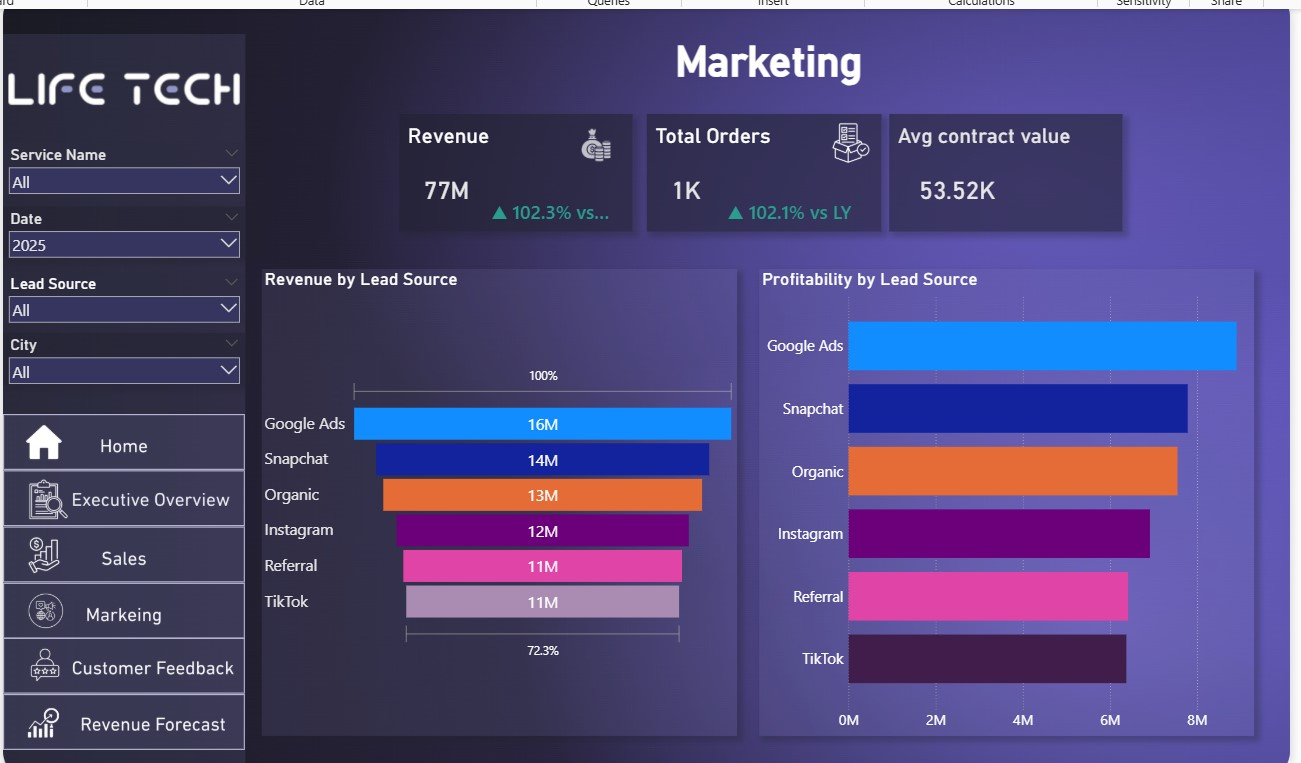

The dashboard page shown, as its layout file describes it:
{"tool":"powerbi","page":{"name":"Marketing","canvas":[2200,1250],"ordinal":4},"visuals":[{"type":"textbox","box":[982.8,0,652.8,95.7],"z":0},{"type":"barChart","title":"Profitability by Lead Source","fields":{"Category":["DimLeadSource.LeadSource"],"Y":["DAX-Measures.Net-Operating-Profit"],"Series":["DimLeadSource.LeadSource"]},"box":[1293.7,401.7,846.5,798.7],"z":1000},{"type":"funnel","title":"Revenue by Lead Source","fields":{"Y":["DAX-Measures.Total-Revenue"],"Category":["DimLeadSource.LeadSource"]},"box":[442.4,401.7,813,798.7],"z":2000},{"type":"cardVisual","title":"Revenue","fields":{"Data":["DAX-Measures.Total-Revenue"]},"box":[676.7,136.3,399.3,200.9],"z":3000},{"type":"image","box":[954.1,136.3,122,110],"z":4000},{"type":"cardVisual","fields":{"Data":["DAX-Measures.YoY KPI Text"]},"box":[805.9,267.8,270.2,69.3],"z":5000},{"type":"cardVisual","title":"Total Orders","fields":{"Data":["DAX-Measures.Total-Orders"]},"box":[1100,136.3,401.7,200.9],"z":6000},{"type":"image","box":[1377.4,119.6,138.7,141.1],"z":7000},{"type":"cardVisual","fields":{"Data":["DAX-Measures.Orders KPI Text"]},"box":[1210,270.2,291.7,67],"z":8000},{"type":"cardVisual","title":"Avg contract value","fields":{"Data":["Avg(Sales_details.ContractValue)"]},"box":[1516.1,136.3,399.3,200.9],"z":9000},{"type":"shape","box":[0,0,414.7,1248.3],"z":10000},{"type":"slicer","fields":{"Values":["DimCity.City"]},"box":[0,510.1,415,89.9],"z":11000},{"type":"slicer","fields":{"Values":["Calender.Year","Calender.Quarter","Calender.Month"]},"box":[0,294.4,415,89.9],"z":12000},{"type":"slicer","fields":{"Values":["DimServiceName.ServiceName"]},"box":[0,186.5,415,89.9],"z":13000},{"type":"slicer","fields":{"Values":["DimLeadSource.LeadSource"]},"box":[0,406.1,414.7,89.8],"z":14000},{"type":"image","box":[0,650.4,413.7,95.7],"z":15000},{"type":"image","box":[0,746.1,413.7,95.7],"z":16000},{"type":"image","box":[0,841.7,413.7,95.7],"z":17000},{"type":"image","box":[0,937.4,413.7,95.7],"z":18000},{"type":"image","box":[0,1033,413.7,95.7],"z":19000},{"type":"image","box":[0,1128.7,413.7,95.7],"z":20000},{"type":"image","box":[9.6,0,397,186.5],"z":21000},{"type":"actionButton","box":[0,650.4,413.7,95.7],"z":22000},{"type":"actionButton","box":[0,746.1,413.7,95.7],"z":23000},{"type":"actionButton","box":[0,841.7,413.7,95.7],"z":24000},{"type":"actionButton","box":[0,937.4,413.7,95.7],"z":25000},{"type":"actionButton","box":[0,1033,413.7,95.7],"z":26000},{"type":"actionButton","box":[0,1128.7,413.7,95.7],"z":27000}]}

Visuals, with their boxes on the page's 2200x1250 design canvas (x1, y1, x2, y2). These are canvas units, not pixel positions in the 1301x763 screenshot, which may show the page scaled, cropped or inside an application window:
textbox: 983/0/1636/96
"Profitability by Lead Source" barChart: 1294/402/2140/1200
"Revenue by Lead Source" funnel: 442/402/1255/1200
"Revenue" cardVisual: 677/136/1076/337
image: 954/136/1076/246
cardVisual - DAX-Measures.YoY KPI Text: 806/268/1076/337
"Total Orders" cardVisual: 1100/136/1502/337
image: 1377/120/1516/261
cardVisual - DAX-Measures.Orders KPI Text: 1210/270/1502/337
"Avg contract value" cardVisual: 1516/136/1915/337
shape: 0/0/415/1248
slicer - DimCity.City: 0/510/415/600
slicer - Calender.Year x Calender.Quarter: 0/294/415/384
slicer - DimServiceName.ServiceName: 0/186/415/276
slicer - DimLeadSource.LeadSource: 0/406/415/496
image: 0/650/414/746
image: 0/746/414/842
image: 0/842/414/937
image: 0/937/414/1033
image: 0/1033/414/1129
image: 0/1129/414/1224
image: 10/0/407/186
actionButton: 0/650/414/746
actionButton: 0/746/414/842
actionButton: 0/842/414/937
actionButton: 0/937/414/1033
actionButton: 0/1033/414/1129
actionButton: 0/1129/414/1224
